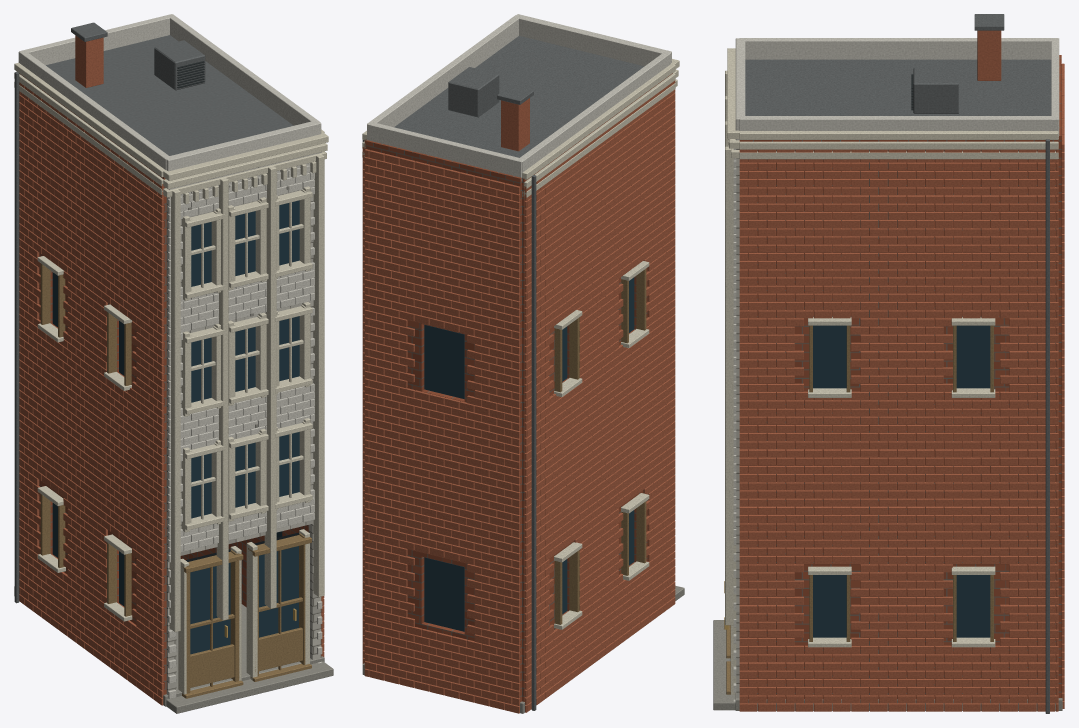
Rendered from OFFC20_lod0.glb.
3 renders of one model, left to right at view 1: azimuth 30°, elevation 25°; view 2: azimuth 150°, elevation 25°; view 3: azimuth 270°, elevation 25°, orthographic. The views are drawn at different scales.
Visible parts, largest first — view 1: OFFC20_LOD0; view 2: OFFC20_LOD0; view 3: OFFC20_LOD0.
Boxes of the visible parts, x1=… form: OFFC20_LOD0: x1=14, y1=14, x2=333, y2=713; OFFC20_LOD0: x1=362, y1=14, x2=684, y2=713; OFFC20_LOD0: x1=713, y1=14, x2=1064, y2=713.
Size of the model in its own units: 4.11 by 13.05 by 6.6.
Materials: 16 (13 with a texture image).
